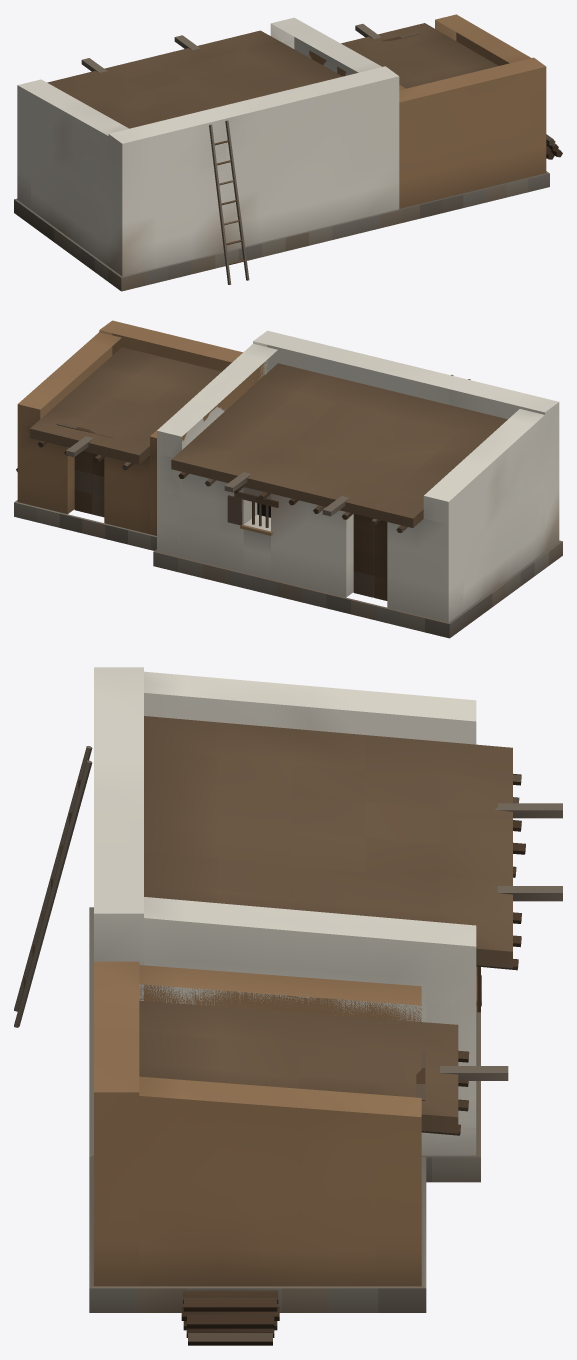
File: casa_torta_b.glb
3 renders of one model, top to bottom at view 1: azimuth 30°, elevation 25°; view 2: azimuth 150°, elevation 25°; view 3: azimuth 270°, elevation 25°, orthographic. The views are drawn at different scales.
Visible parts, largest first — view 1: casa_torta_b; view 2: casa_torta_b; view 3: casa_torta_b.
Boxes of the visible parts, <box> form: casa_torta_b: <box>14,14,562,291</box>; casa_torta_b: <box>14,320,562,638</box>; casa_torta_b: <box>14,667,562,1345</box>.
Bounding box in the file's own units: 10.83 × 3.23 × 6.03.
